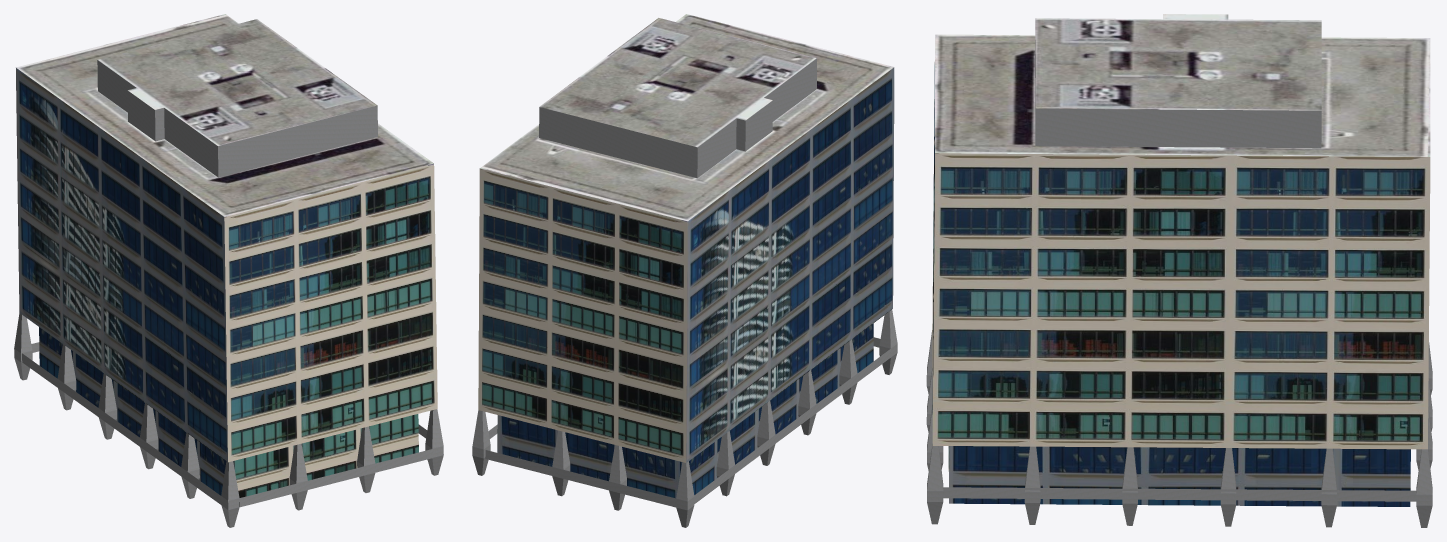
File: building3_0.glb
3 views of the same model, side by side, from view 1: azimuth 30°, elevation 25°; view 2: azimuth 150°, elevation 25°; view 3: azimuth 270°, elevation 25° (orthographic). The views are drawn at different scales.
Visible parts, largest first — view 1: skp5EA7, Component.004, Component.007, Component, Component.013, Component.015, Component.006, Component.005, Component.012, Component.014; view 2: skp5EA7, Component, Component.001, Component.002, Component.004, Component.014, Component.012, Component.013, Component.015, Component.003; view 3: skp5EA7, Component.001, Component.007, Component.009, Component.008, Component.010, Component.011.
Part boxes in pixels (x1,y1,x2,y2): skp5EA7: [16, 14, 437, 507]; Component.004: [221, 461, 239, 527]; Component.007: [425, 409, 443, 475]; Component: [14, 313, 32, 380]; Component.013: [57, 344, 76, 410]; Component.015: [140, 403, 158, 469]; Component.006: [289, 443, 307, 510]; Component.005: [357, 426, 375, 492]; Component.012: [181, 433, 199, 498]; Component.014: [98, 373, 116, 439]; skp5EA7: [478, 14, 894, 507]; Component: [676, 461, 694, 527]; Component.001: [472, 410, 490, 475]; Component.002: [552, 430, 570, 496]; Component.004: [879, 309, 897, 374]; Component.014: [757, 401, 775, 465]; Component.012: [839, 339, 857, 404]; Component.013: [716, 431, 734, 496]; Component.015: [798, 370, 816, 435]; Component.003: [609, 445, 626, 510]; skp5EA7: [932, 14, 1430, 506]; Component.001: [1416, 449, 1432, 527]; Component.007: [927, 444, 943, 524]; Component.009: [1220, 448, 1236, 526]; Component.008: [1321, 448, 1336, 527]; Component.010: [1024, 446, 1040, 524]; Component.011: [1122, 447, 1137, 525].
Size of the model in its own units: 28.36 by 43.27 by 48.19.
Materials: 8 (7 with a texture image).
